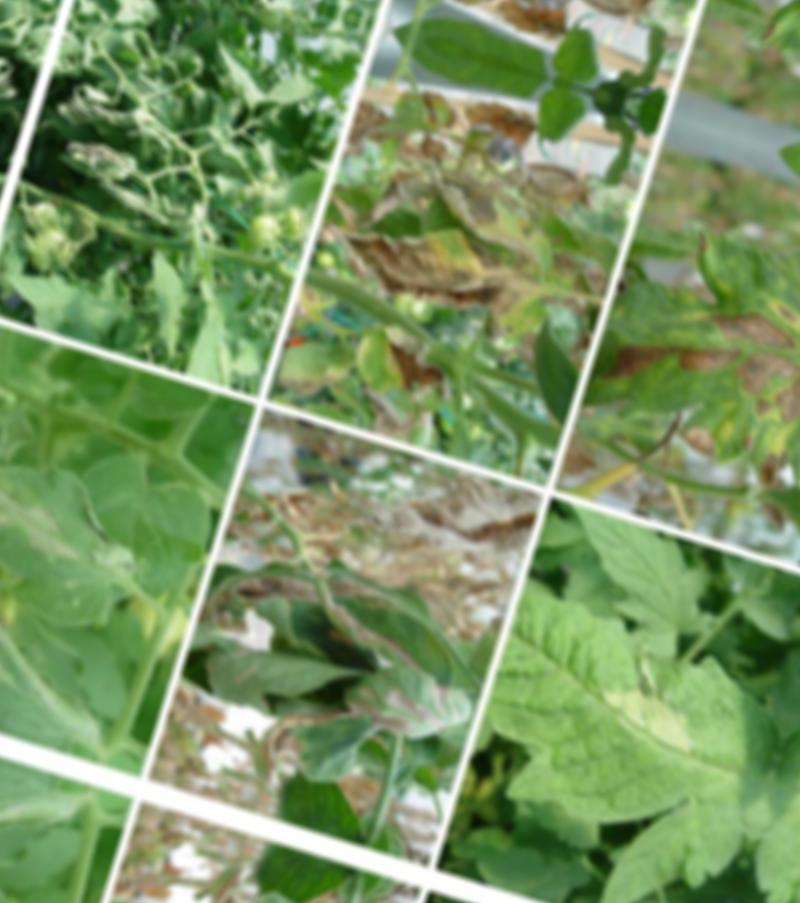Tomato leaf bacterial spot: (586, 193, 800, 508)
